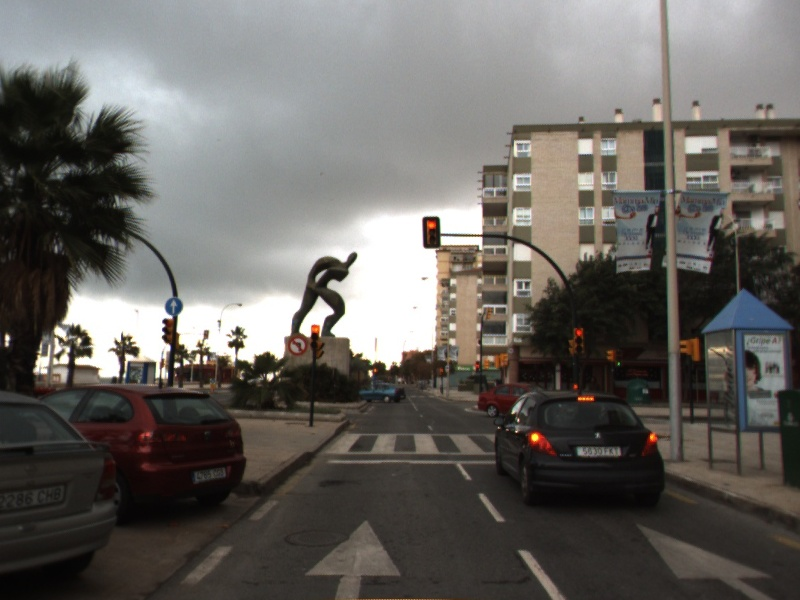STRAIGHT: (634, 522, 780, 600), (301, 518, 404, 600)
